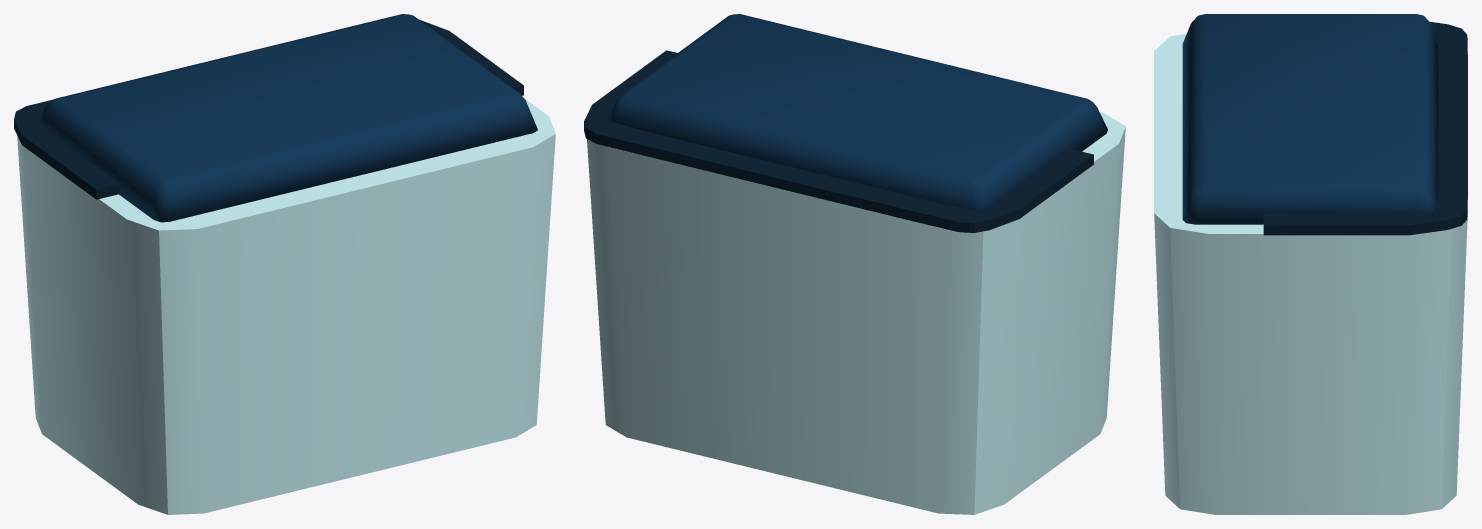
Rendered from FoodCooler.fbx.
3 views of the same model, side by side, from view 1: azimuth 30°, elevation 25°; view 2: azimuth 150°, elevation 25°; view 3: azimuth 270°, elevation 25° (orthographic).
Visible parts, largest first — view 1: FoodCooler_p1, FoodCooler_p2; view 2: FoodCooler_p1, FoodCooler_p2; view 3: FoodCooler_p1, FoodCooler_p2.
Boxes of the visible parts, bbox=[...] form: FoodCooler_p1: bbox=[14, 19, 555, 514]; FoodCooler_p2: bbox=[39, 14, 537, 222]; FoodCooler_p1: bbox=[584, 50, 1125, 514]; FoodCooler_p2: bbox=[609, 14, 1107, 210]; FoodCooler_p1: bbox=[1154, 22, 1467, 514]; FoodCooler_p2: bbox=[1182, 14, 1438, 224].
Size of the model in its own units: 109 by 79.65 by 70.3.
